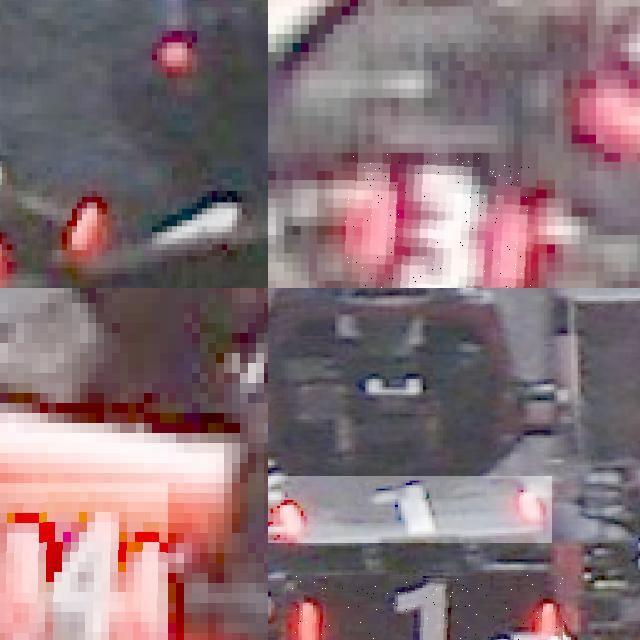R1: (268, 476, 552, 543), (286, 575, 565, 640)
R3: (341, 152, 538, 288)
R4: (0, 483, 168, 640)
